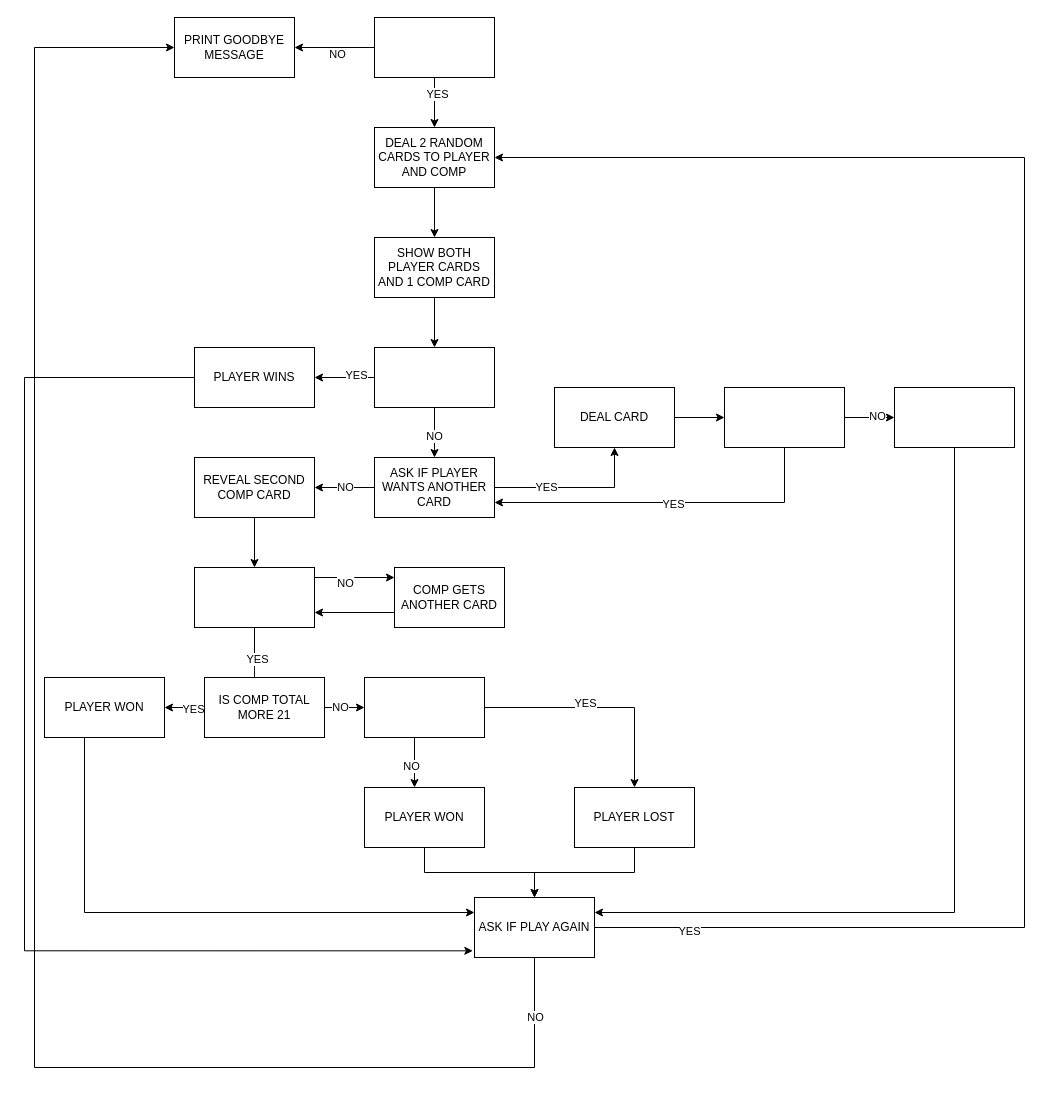
This 1050x1093 diagram has some shape labels left out. Each missing label, with the centre of its shape:
ARE PLAYER CARDS LESS THAN 21?: the point at 784,417
ASK IF PLAYER WANTS TO PLAY: the point at 434,47
CHECK IF COMP CARDS MORE THAN 17: the point at 254,597
GAME OVER PLAYER LOST: the point at 954,417
IF PLAYER CARDS ARE 21: the point at 434,377
IS COMP TOTAL MORE THAN PLAYER TOTAL: the point at 424,707
